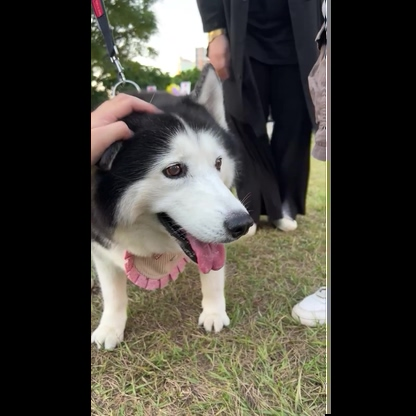husky: (93, 62, 262, 350)
